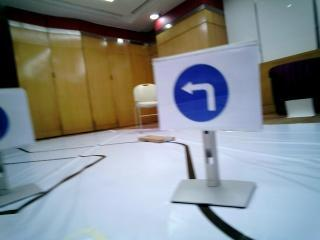left: (159, 60, 257, 126)
